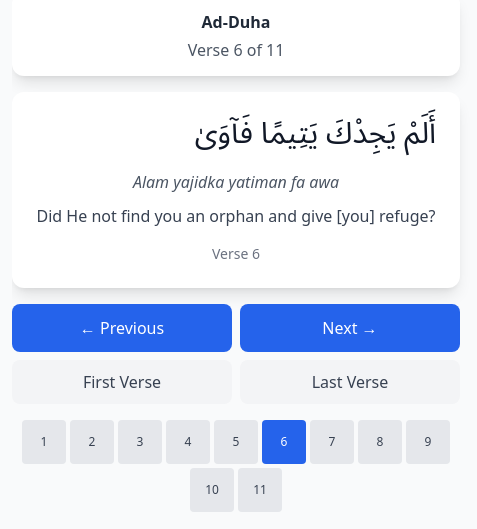
it: Reading Mode Integration › should jump to first verse
This screenshot has width=477, height=529.
Step 1. Click the button "First Verse" → point(122, 382), box [12, 360, 232, 404]
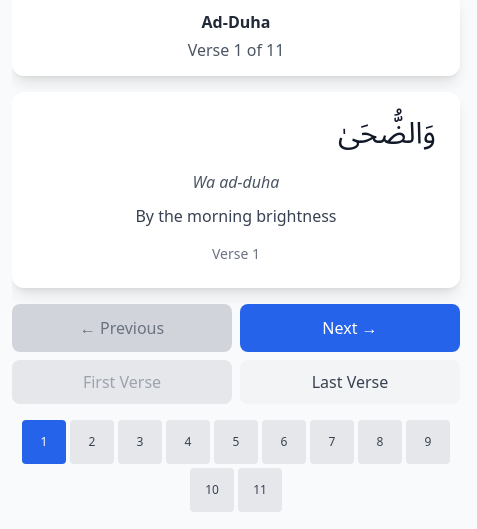
Expected: the text "وَالضُّحَىٰ" is shown, [338, 102, 436, 165]
Expected: the text "Verse 1 of 11" is shown, [188, 39, 284, 61]
